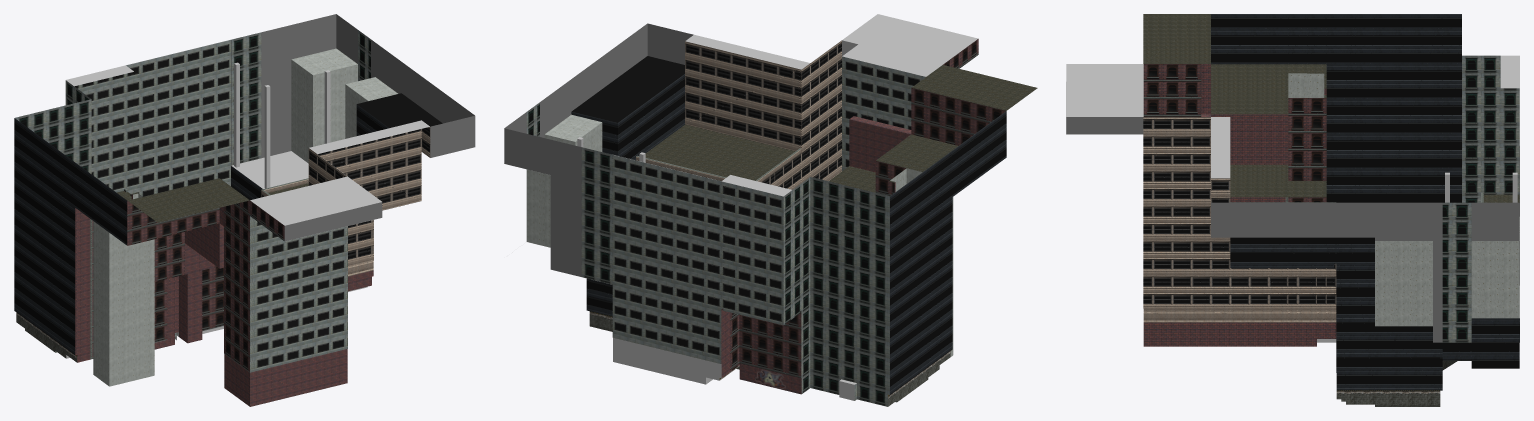
3 views of the same model, side by side, from view 1: azimuth 30°, elevation 25°; view 2: azimuth 150°, elevation 25°; view 3: azimuth 270°, elevation 25° (orthographic). The views are drawn at different scales.
Visible parts, largest first — view 1: MAP01; view 2: MAP01; view 3: MAP01.
Boxes of the visible parts, box(x1,y1,x2,y2) form: MAP01: box(14, 14, 475, 406); MAP01: box(504, 14, 1037, 406); MAP01: box(1066, 14, 1519, 406).
Bounding box in the file's own units: 2960 × 3008 × 1752.
